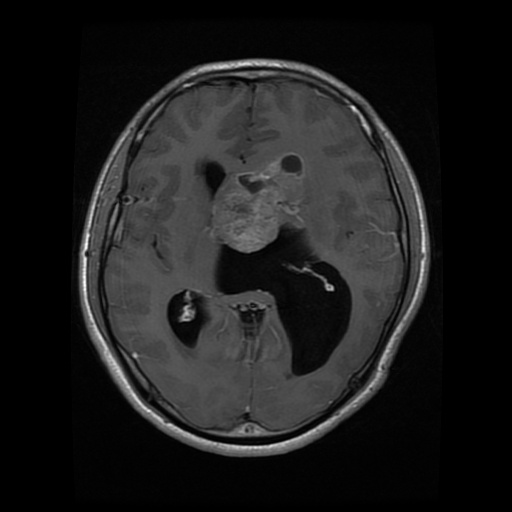glioma: (209, 152, 309, 253)
